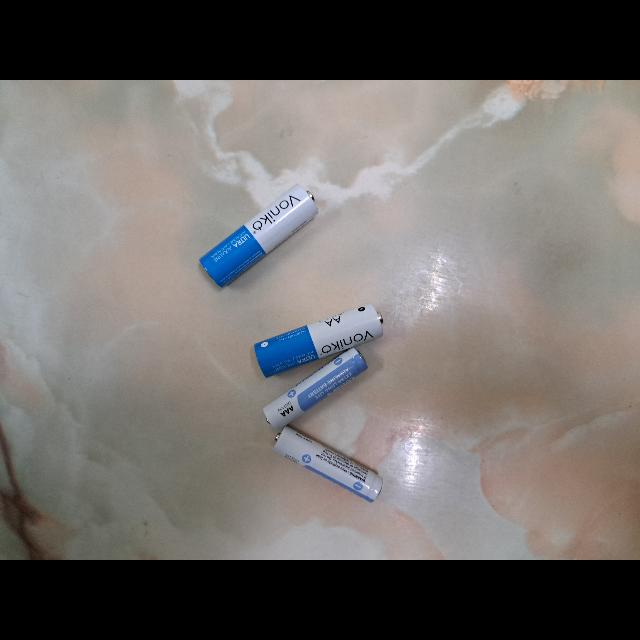bateria: (198, 184, 318, 288), (253, 304, 384, 376), (262, 348, 366, 432), (273, 426, 385, 502)
